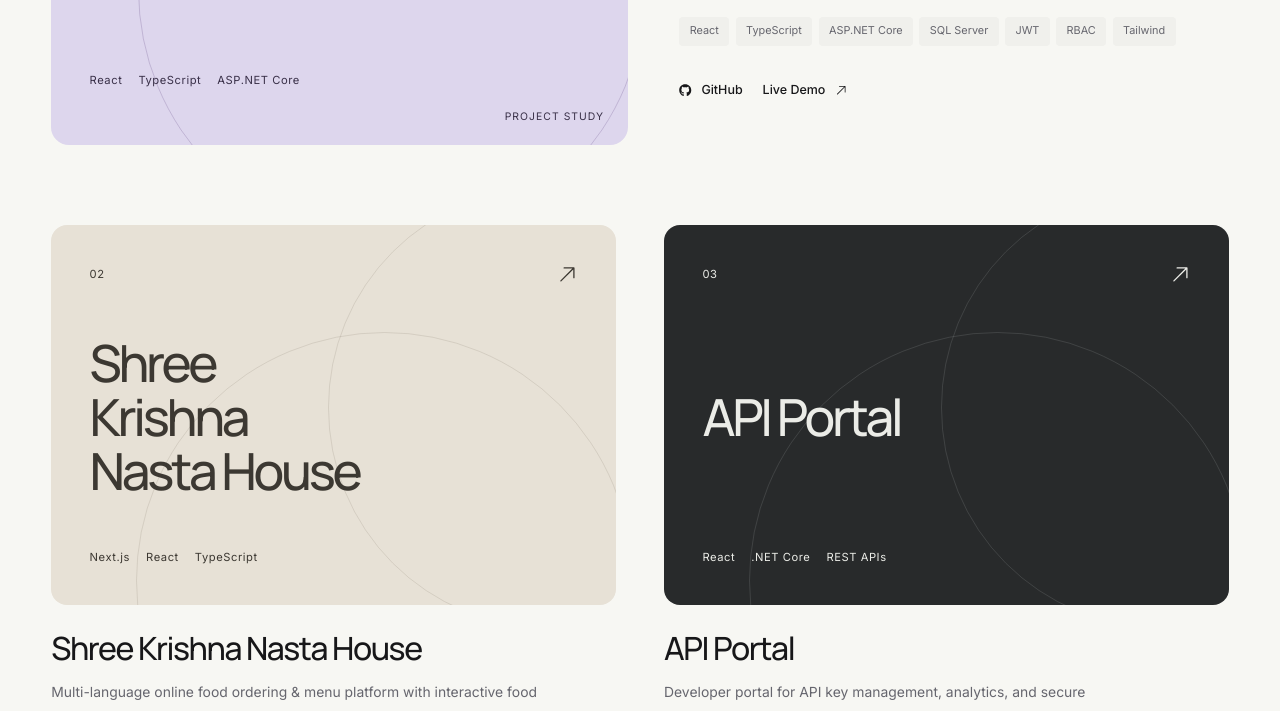
discussing a project closes its dialog and retains the contact anchor
(page scrolled)
Click the button "03 API Portal React .NET Core REST APIs".
click(946, 415)  # box left=664, top=225, right=1229, bottom=605
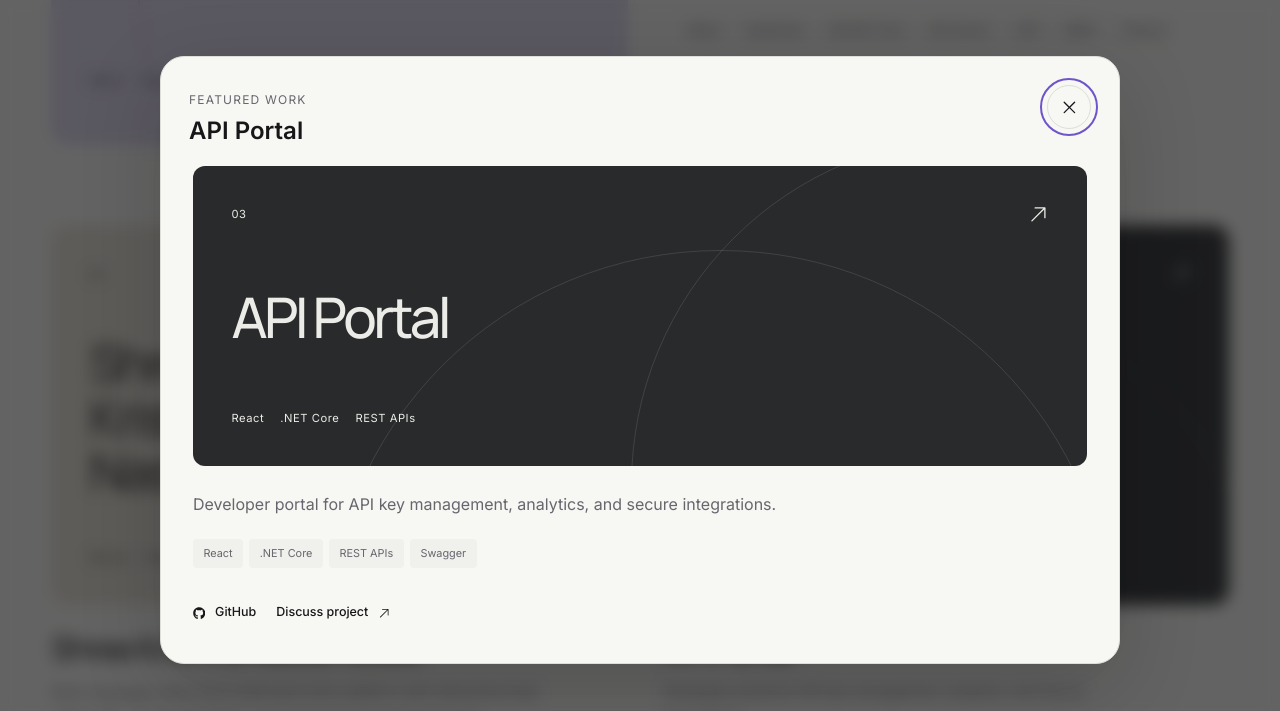
Click the link "Discuss project".
click(333, 617)  # box left=275, top=604, right=390, bottom=629
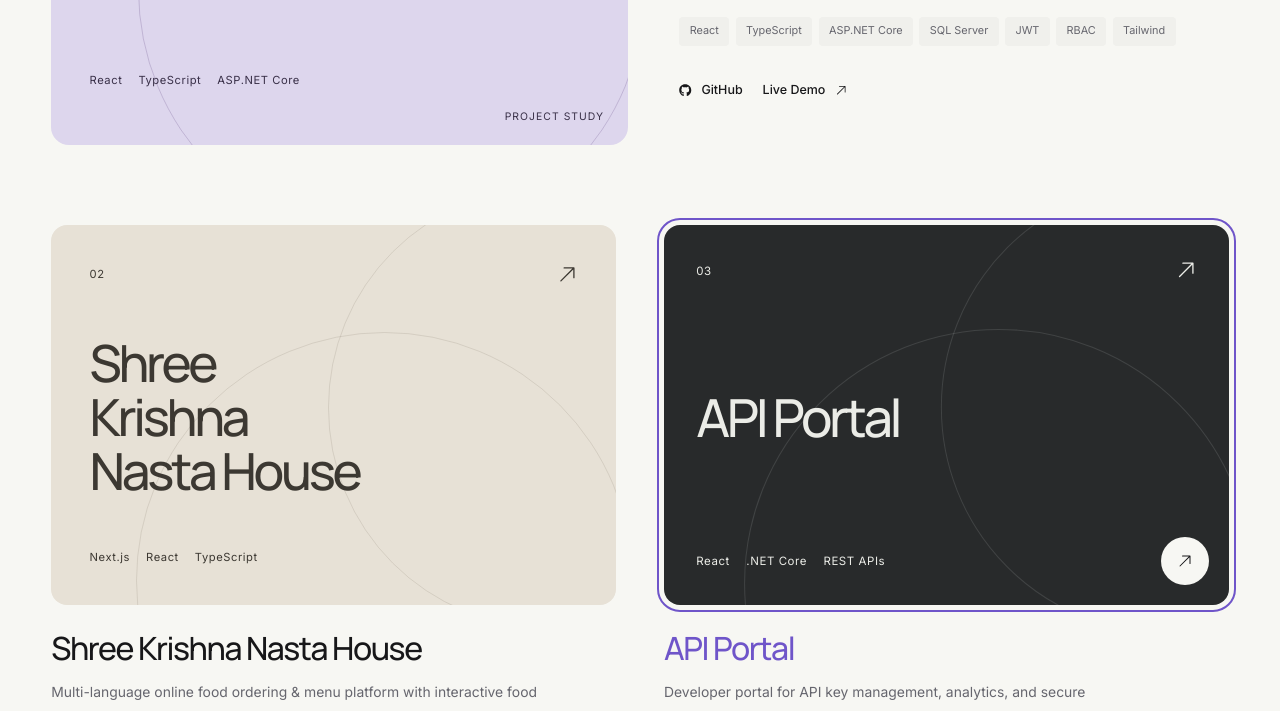
Expected: the dialog is gone
